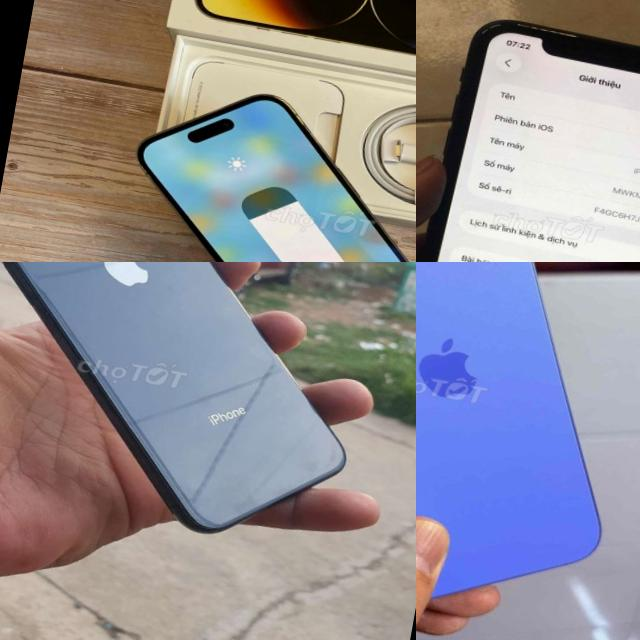gen_11: (423, 21, 640, 262)
gen_14: (96, 62, 416, 262)
gen_16: (416, 262, 599, 597)
gen_x_xs: (1, 262, 345, 532)
